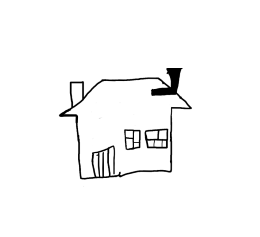chimney: (147, 58, 188, 100), (61, 76, 92, 109)
closed_window: (143, 124, 170, 152), (120, 125, 144, 153)
door: (87, 142, 120, 183)
single_line_roof: (51, 75, 196, 119)
small_house: (2, 4, 260, 237)
wall: (71, 105, 176, 182)
